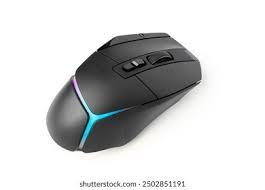mouse: (47, 31, 202, 153)
